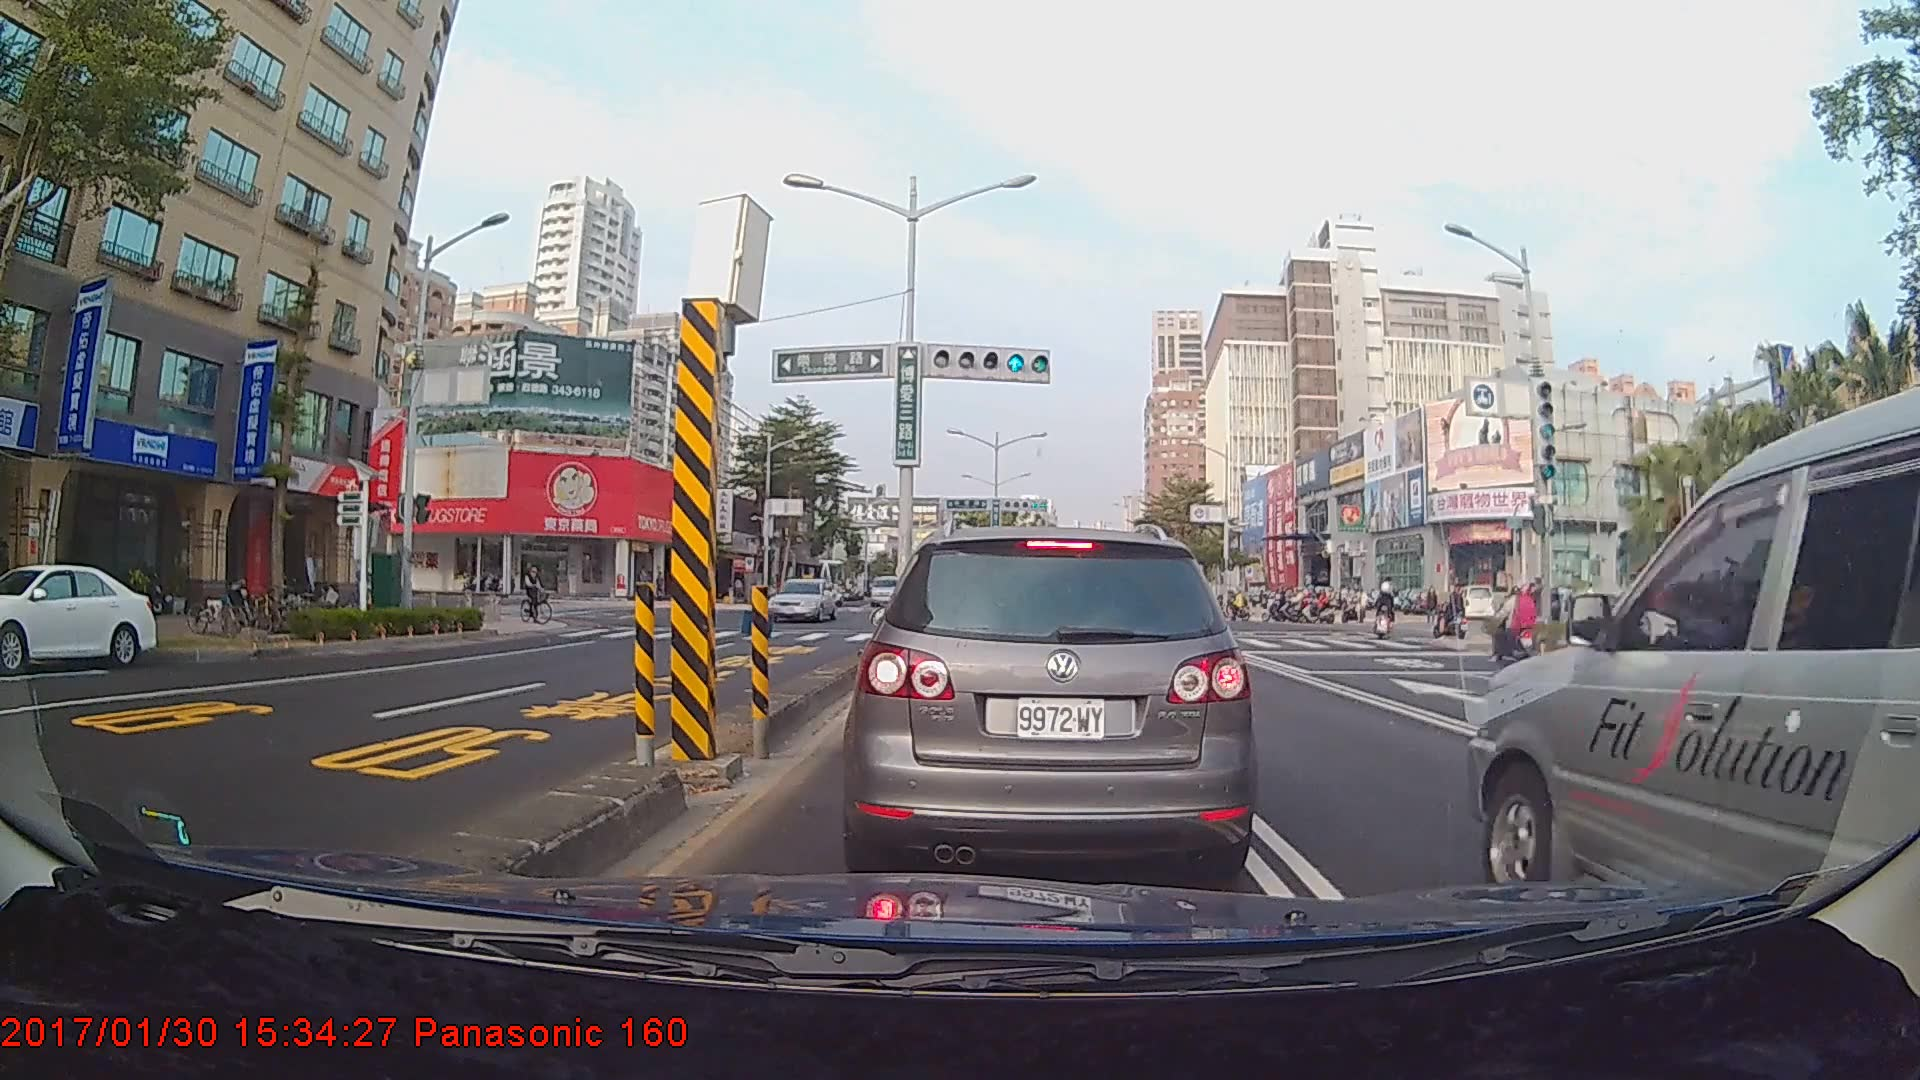rider: (1485, 582, 1548, 668), (518, 559, 561, 629), (1436, 582, 1473, 646), (1373, 583, 1399, 643), (1583, 582, 1608, 621)
vehicle: (1479, 390, 1920, 883), (853, 522, 1247, 880), (0, 561, 157, 671), (769, 577, 836, 622), (867, 575, 904, 605)
